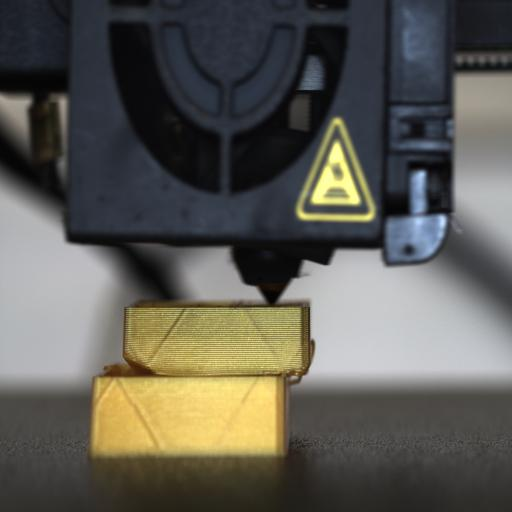layer_shift: (90, 352, 312, 385)
